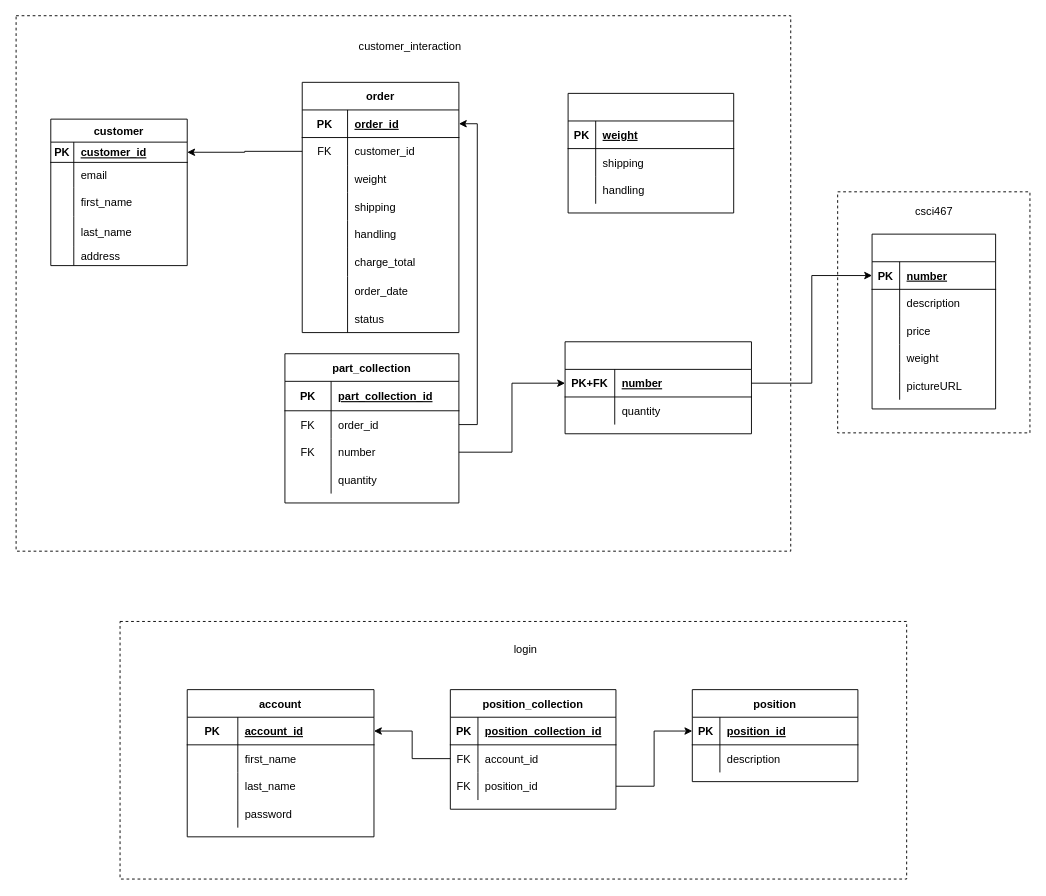
Image size: 1046x896. Some labels were removed from this diagram. Here are the shapes that lost their labels. From the top down, the box of each, then its label:
(567, 92, 734, 213): extra_charge
(871, 233, 996, 409): parts
(564, 341, 751, 434): inventory
